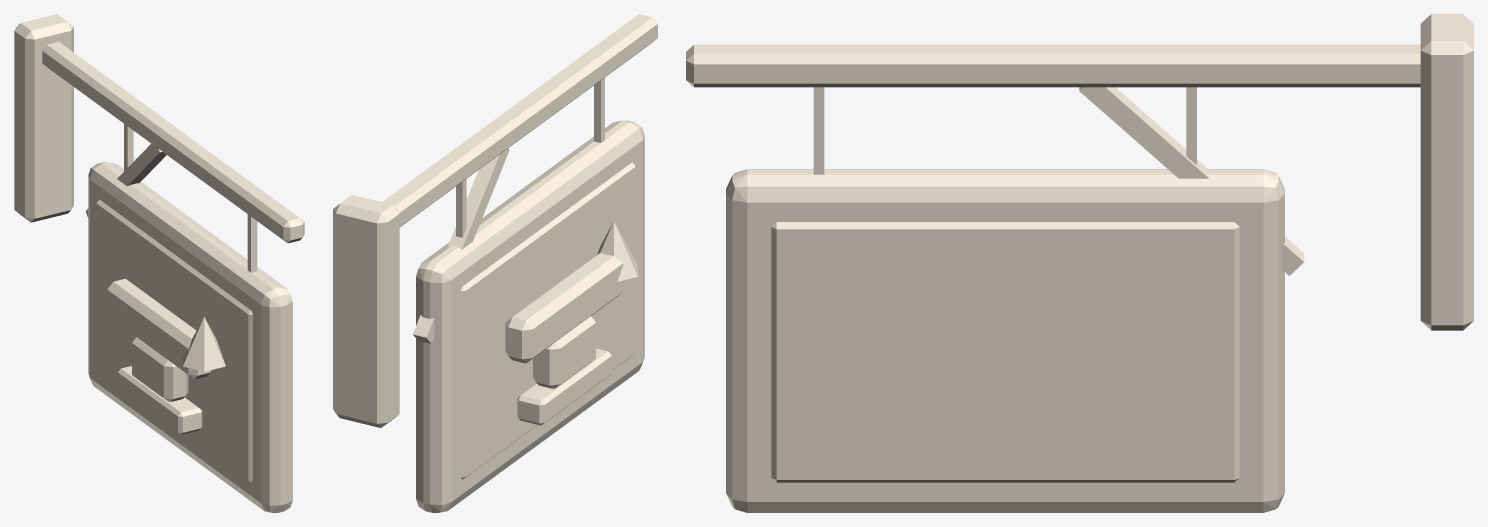
The model's file is SM_VK_Sign_Anvil.fbx.
The picture shows the model from 3 angles, left to right: view 1: azimuth 30°, elevation 25°; view 2: azimuth 150°, elevation 25°; view 3: azimuth 270°, elevation 25°; orthographic projection. The views are drawn at different scales.
Visible parts, largest first — view 1: SM_VK_Sign_Anvil.001; view 2: SM_VK_Sign_Anvil.001; view 3: SM_VK_Sign_Anvil.001.
Boxes of the visible parts, <box> form: SM_VK_Sign_Anvil.001: <box>14,14,304,512</box>; SM_VK_Sign_Anvil.001: <box>333,14,657,512</box>; SM_VK_Sign_Anvil.001: <box>686,14,1473,512</box>.
Bounding box in the file's own units: 0.25 × 1 × 1.48.
